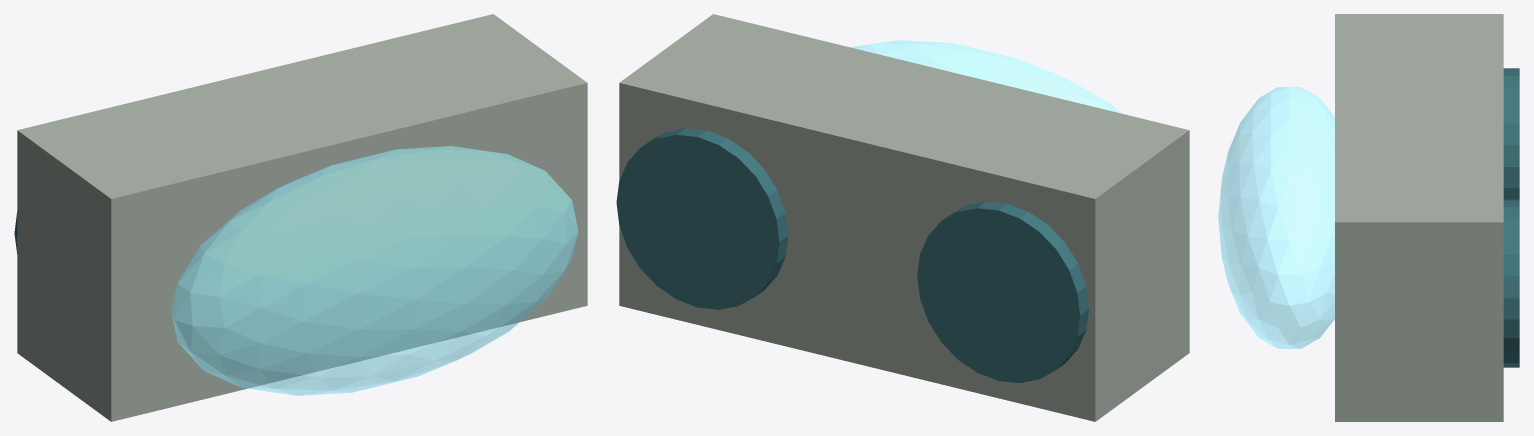
The model's file is 21_Sunken_Crystal_Transport.glb.
The picture shows the model from 3 angles, left to right: view 1: azimuth 30°, elevation 25°; view 2: azimuth 150°, elevation 25°; view 3: azimuth 270°, elevation 25°; orthographic projection. The views are drawn at different scales.
Visible parts, largest first — view 1: 21_Sunken_Crystal_Transport_00, 21_Sunken_Crystal_Transport_01; view 2: 21_Sunken_Crystal_Transport_00, 21_Sunken_Crystal_Transport_03, 21_Sunken_Crystal_Transport_02, 21_Sunken_Crystal_Transport_01; view 3: 21_Sunken_Crystal_Transport_00, 21_Sunken_Crystal_Transport_01, 21_Sunken_Crystal_Transport_03, 21_Sunken_Crystal_Transport_02.
Part boxes in pixels (x1,y1,x2,y2): 21_Sunken_Crystal_Transport_00: [17, 14, 587, 421]; 21_Sunken_Crystal_Transport_01: [171, 146, 578, 395]; 21_Sunken_Crystal_Transport_00: [619, 14, 1189, 421]; 21_Sunken_Crystal_Transport_03: [616, 128, 788, 309]; 21_Sunken_Crystal_Transport_02: [917, 201, 1088, 383]; 21_Sunken_Crystal_Transport_01: [851, 40, 1120, 113]; 21_Sunken_Crystal_Transport_00: [1335, 14, 1503, 421]; 21_Sunken_Crystal_Transport_01: [1218, 87, 1334, 348]; 21_Sunken_Crystal_Transport_03: [1503, 199, 1519, 367]; 21_Sunken_Crystal_Transport_02: [1503, 68, 1519, 199].
Bounding box in the file's own units: 3.8 × 1.7 × 2.32.
